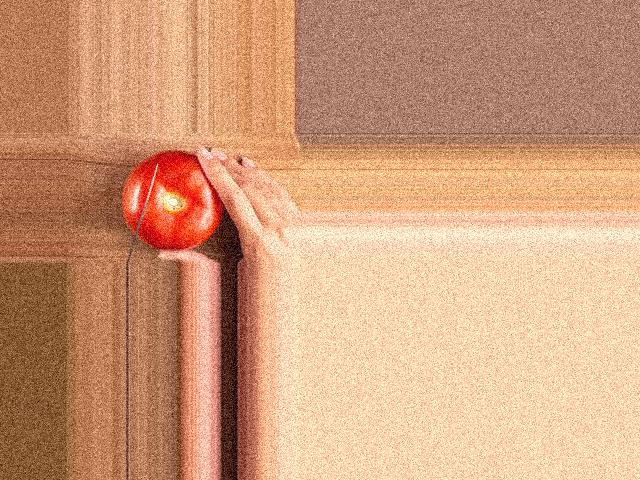tomato: (124, 151, 224, 250)
